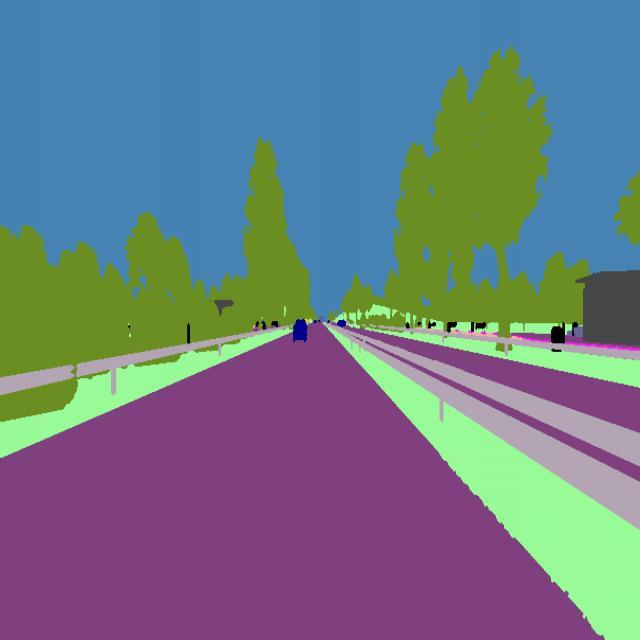safe: (290, 315, 312, 348), (337, 317, 347, 331), (327, 317, 332, 324)
